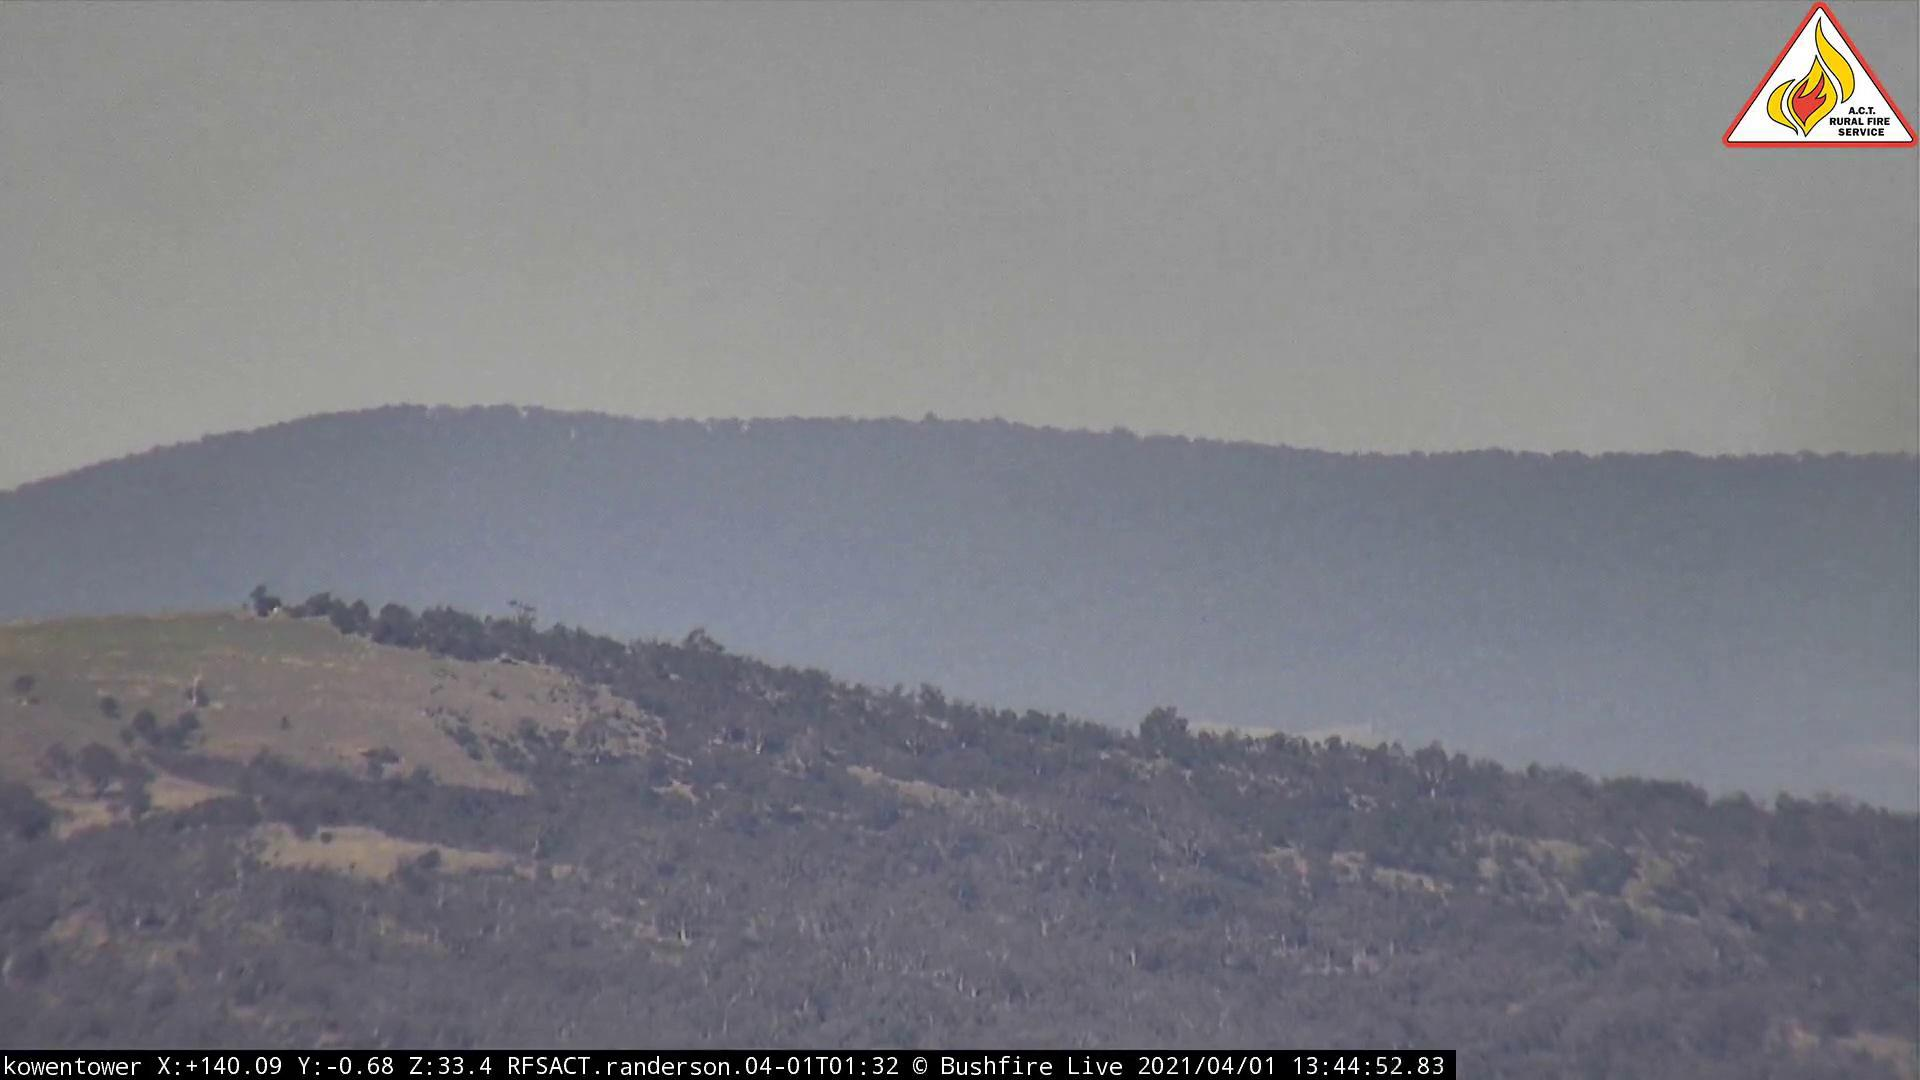instance_salient_object: (1692, 225, 1920, 588)
